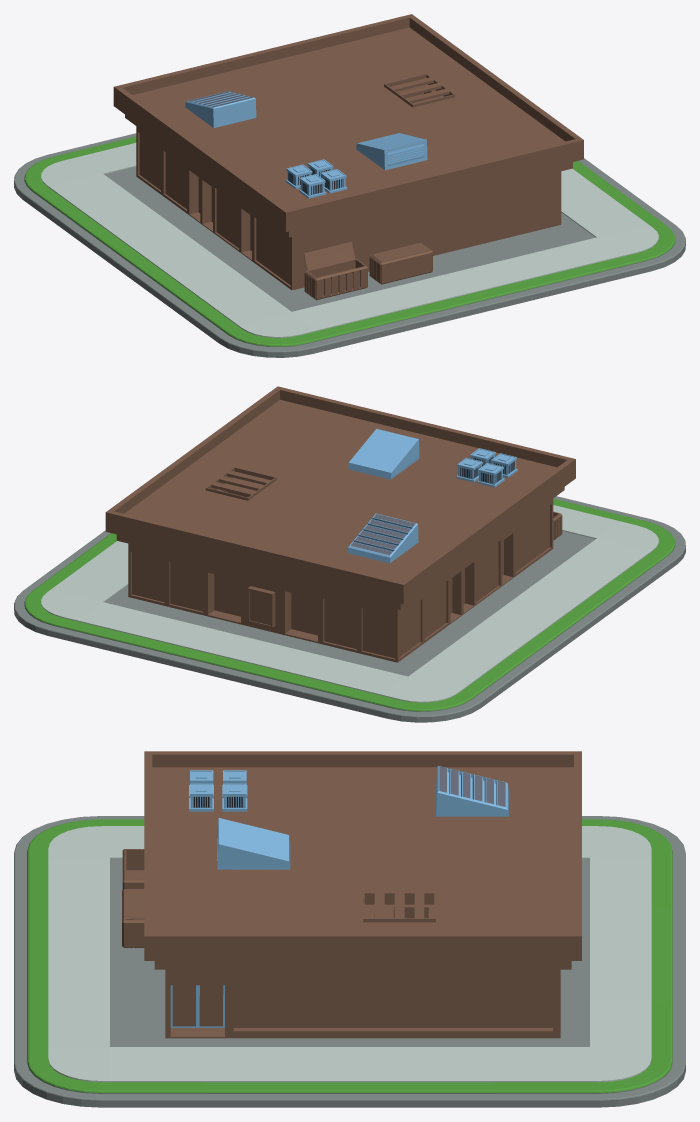
The model's file is CityBlock.fbx.
The picture shows the model from 3 angles, top to bottom: view 1: azimuth 30°, elevation 25°; view 2: azimuth 150°, elevation 25°; view 3: azimuth 270°, elevation 25°; orthographic projection. The views are drawn at different scales.
Parts seen in each view (by area): view 1: low poly store, City blocks; view 2: low poly store, City blocks; view 3: low poly store, City blocks.
Part boxes in pixels (x1,y1,x2,y2): low poly store: (113,14,583,300); City blocks: (14,133,685,357); low poly store: (105,386,575,662); City blocks: (14,496,685,722); low poly store: (122,751,581,1038); City blocks: (14,816,685,1107).
Size of the model in its own units: 1376 by 310 by 1376.
